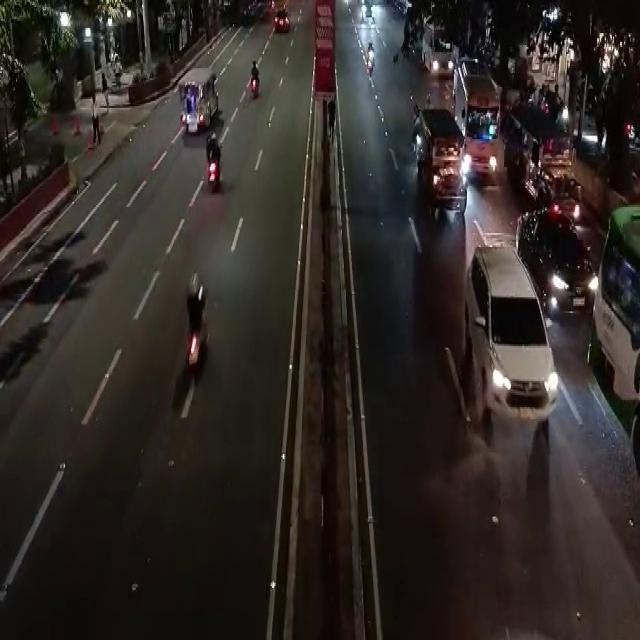bus: (458, 67, 499, 181)
car: (467, 272, 544, 426), (522, 221, 609, 315), (419, 29, 451, 77), (267, 10, 296, 35)
jeepney: (506, 114, 585, 224), (411, 114, 471, 232), (170, 67, 223, 141)
motorcycle: (180, 259, 206, 386), (201, 131, 224, 192), (241, 62, 260, 104), (360, 38, 376, 86)
